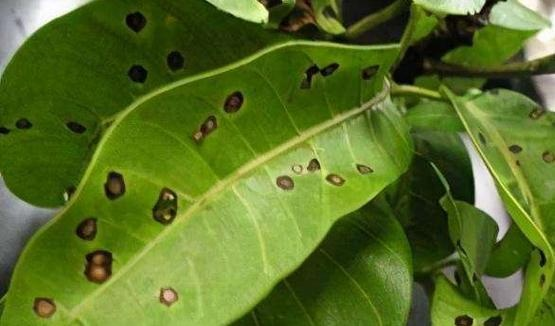Anthracnose: (63, 160, 188, 240), (476, 110, 555, 182), (99, 12, 202, 61), (54, 256, 177, 296), (182, 103, 289, 146), (304, 56, 414, 93), (255, 162, 386, 193)
